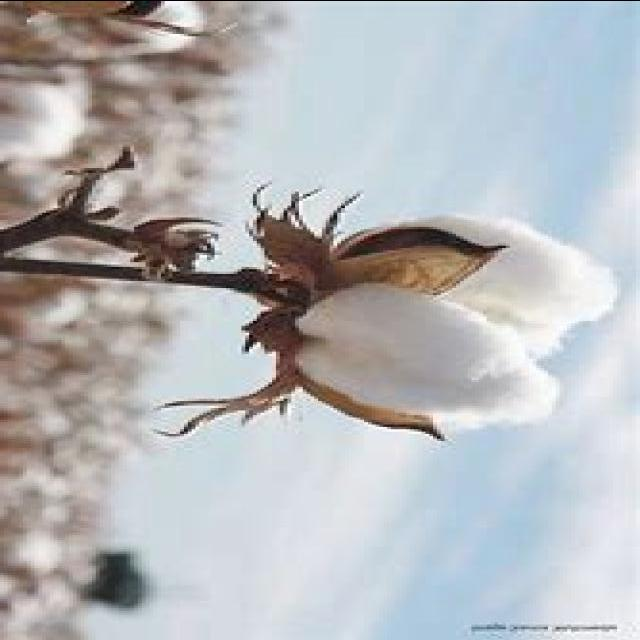Matured Cotton Boll: (226, 183, 624, 439)
